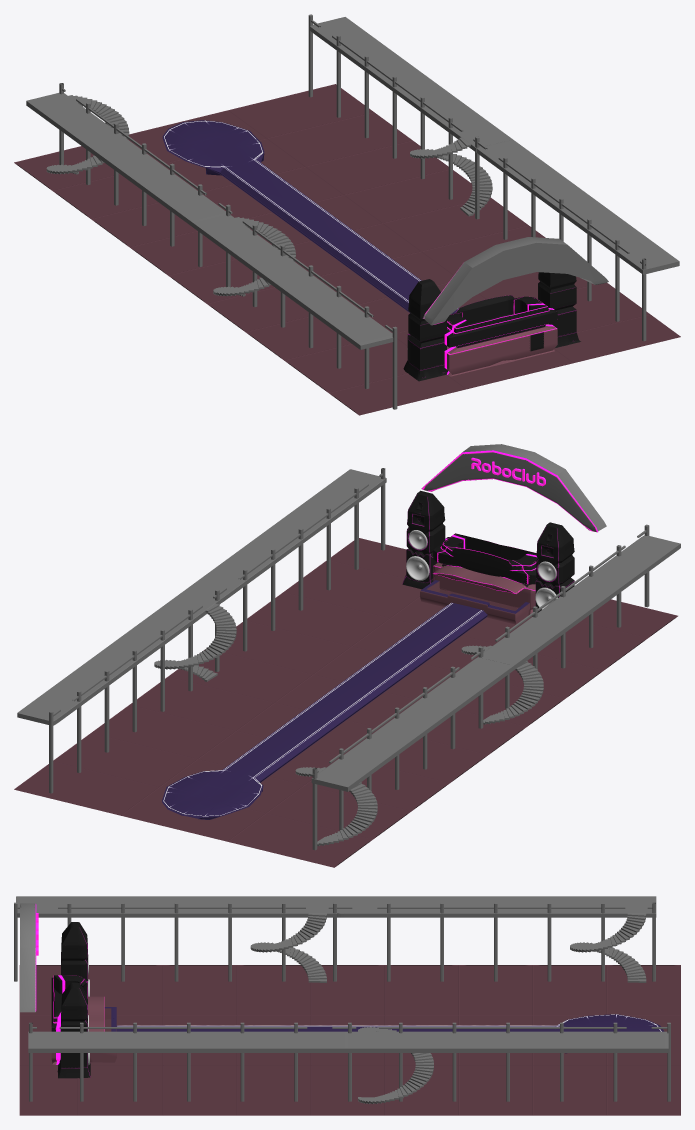
File: KLUB.fbx
The picture shows the model from 3 angles, top to bottom: view 1: azimuth 30°, elevation 25°; view 2: azimuth 150°, elevation 25°; view 3: azimuth 270°, elevation 25°; orthographic projection. The views are drawn at different scales.
Parts seen in each view (by area): view 1: floor_Baked, dancingCube_Baked, RampL.001_Baked, RampL.001_Baked.001, RampL.001_Baked.003, RampL.001_Baked.002, gamePadWall_Baked, dj_up_Baked, dj_down_Baked, RightSpeaker.001_Baked.001, RampPhillar.001_Baked.002, RampPhillar.001_Baked.003 (+6 smaller); view 2: floor_Baked, dancingCube_Baked, RampL.001_Baked.001, RampL.001_Baked, RampL.001_Baked.002, RampL.001_Baked.003, gamePadWall_Baked, dj_up_Baked, RampPhillar.001_Baked.002, RampPhillar.001_Baked.003, dj_down_Baked, RightSpeaker.001_Baked (+7 smaller); view 3: floor_Baked, RampL.001_Baked.002, RampL.001_Baked.003, RampL.001_Baked.001, RampL.001_Baked, dancingCube_Baked, RampPhillar.001_Baked.001, RampPhillar.001_Baked, RampPhillar.001_Baked.002, RampPhillar.001_Baked.003, gamePadWall_Baked, RightSpeaker.001_Baked (+7 smaller).
Part boxes in pixels (left/top/right/bottom): floor_Baked: left=14, top=84, right=680, bottom=415; dancingCube_Baked: left=162, top=120, right=458, bottom=313; RampL.001_Baked: left=193, top=215, right=393, bottom=349; RampL.001_Baked.001: left=26, top=93, right=225, bottom=226; RampL.001_Baked.003: left=477, top=139, right=679, bottom=274; RampL.001_Baked.002: left=310, top=17, right=512, bottom=152; gamePadWall_Baked: left=423, top=237, right=608, bottom=325; dj_up_Baked: left=443, top=295, right=557, bottom=347; dj_down_Baked: left=444, top=322, right=557, bottom=376; RightSpeaker.001_Baked.001: left=403, top=279, right=447, bottom=381; RampPhillar.001_Baked.002: left=308, top=14, right=475, bottom=217; RampPhillar.001_Baked.003: left=475, top=136, right=646, bottom=341; floor_Baked: left=14, top=538, right=677, bottom=867; dancingCube_Baked: left=162, top=602, right=487, bottom=819; RampL.001_Baked.001: left=311, top=657, right=513, bottom=791; RampL.001_Baked: left=478, top=535, right=680, bottom=669; RampL.001_Baked.002: left=17, top=590, right=220, bottom=725; RampL.001_Baked.003: left=185, top=469, right=386, bottom=603; gamePadWall_Baked: left=421, top=444, right=606, bottom=532; dj_up_Baked: left=433, top=533, right=537, bottom=584; RampPhillar.001_Baked.002: left=49, top=591, right=218, bottom=793; RampPhillar.001_Baked.003: left=215, top=468, right=385, bottom=671; dj_down_Baked: left=433, top=562, right=535, bottom=613; RightSpeaker.001_Baked: left=402, top=490, right=445, bottom=589; floor_Baked: left=19, top=965, right=680, bottom=1115; RampL.001_Baked.002: left=347, top=1031, right=668, bottom=1052; RampL.001_Baked.003: left=28, top=1031, right=347, bottom=1052; RampL.001_Baked.001: left=337, top=896, right=656, bottom=917; RampL.001_Baked: left=16, top=896, right=336, bottom=917; dancingCube_Baked: left=117, top=1014, right=664, bottom=1053; RampPhillar.001_Baked.001: left=333, top=902, right=655, bottom=981; RampPhillar.001_Baked: left=14, top=902, right=334, bottom=981; RampPhillar.001_Baked.002: left=349, top=1022, right=670, bottom=1101; RampPhillar.001_Baked.003: left=29, top=1022, right=351, bottom=1101; gamePadWall_Baked: left=20, top=903, right=36, bottom=1012; RightSpeaker.001_Baked: left=57, top=982, right=90, bottom=1078.
Bounding box in the file's own units: 8416 × 3336 × 15596.
